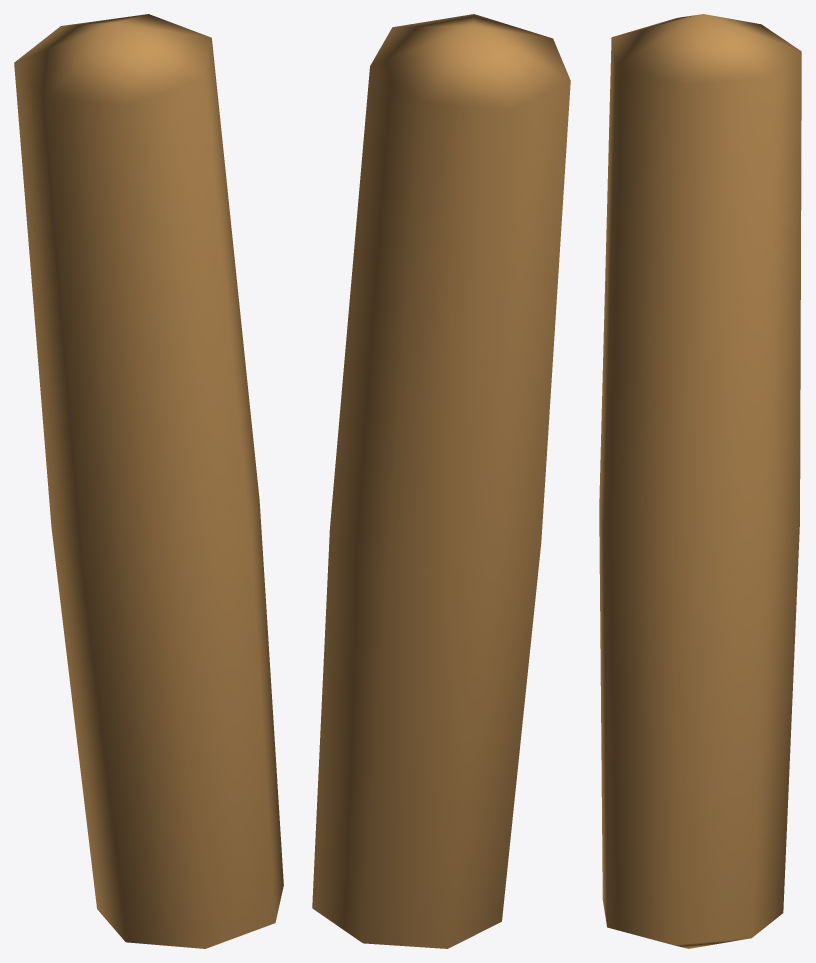
The model's file is claw_T1_right_leg.obj.
The picture shows the model from 3 angles, left to right: view 1: azimuth 30°, elevation 25°; view 2: azimuth 150°, elevation 25°; view 3: azimuth 270°, elevation 25°; orthographic projection. The views are drawn at different scales.
Bounding box in the file's own units: 0.00302 × 0.0113 × 0.00231.
